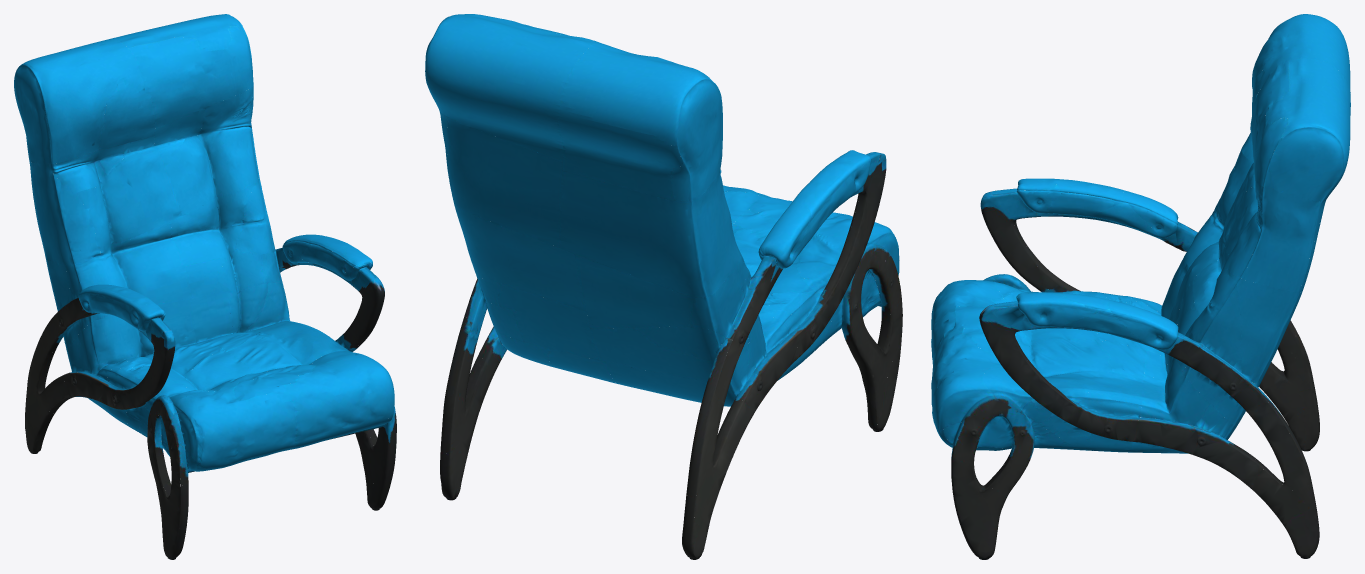
The picture shows the model from 3 angles, left to right: view 1: azimuth 30°, elevation 25°; view 2: azimuth 150°, elevation 25°; view 3: azimuth 270°, elevation 25°; orthographic projection. The views are drawn at different scales.
Visible parts, largest first — view 1: tripo_node_31b4ecaa-ab06-4953-9e82-18fa12ef420c; view 2: tripo_node_31b4ecaa-ab06-4953-9e82-18fa12ef420c; view 3: tripo_node_31b4ecaa-ab06-4953-9e82-18fa12ef420c.
Part boxes in pixels (<box>): tripo_node_31b4ecaa-ab06-4953-9e82-18fa12ef420c: <box>14,14,396,559</box>; tripo_node_31b4ecaa-ab06-4953-9e82-18fa12ef420c: <box>425,14,902,559</box>; tripo_node_31b4ecaa-ab06-4953-9e82-18fa12ef420c: <box>931,14,1350,559</box>.
Size of the model in its own units: 0.6138 by 1 by 0.8652.
Materials: 1 (1 with a texture image).
